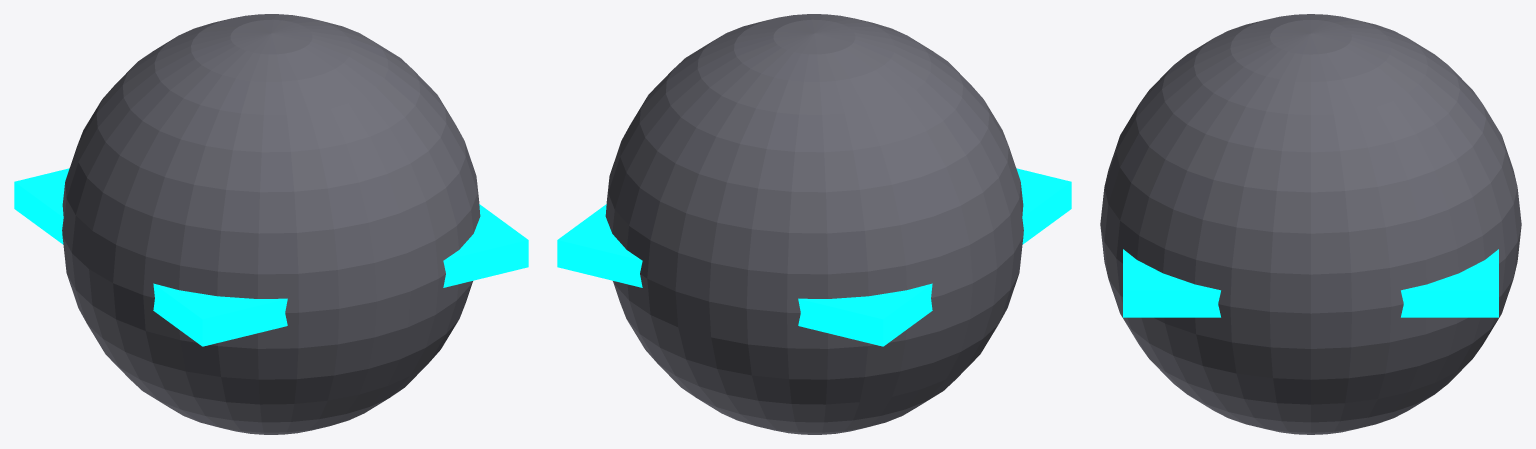
The model's file is weapon_mine.glb.
The picture shows the model from 3 angles, left to right: view 1: azimuth 30°, elevation 25°; view 2: azimuth 150°, elevation 25°; view 3: azimuth 270°, elevation 25°; orthographic projection.
Parts seen in each view (by area): view 1: MineBody, MineRing; view 2: MineBody, MineRing; view 3: MineBody, MineRing.
Part boxes in pixels (x1,y1,x2,y2): MineBody: (62,14,480,434); MineRing: (14,168,528,346); MineBody: (605,14,1023,434); MineRing: (557,168,1071,346); MineBody: (1100,14,1521,434); MineRing: (1123,249,1498,317).
Size of the model in its own units: 0.56 by 0.56 by 0.56.
